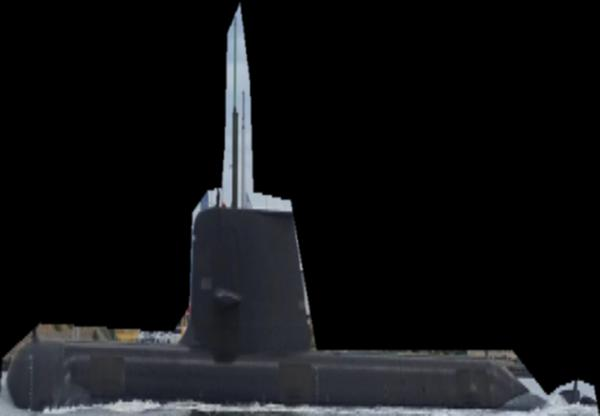Submarine: (0, 2, 599, 416)
